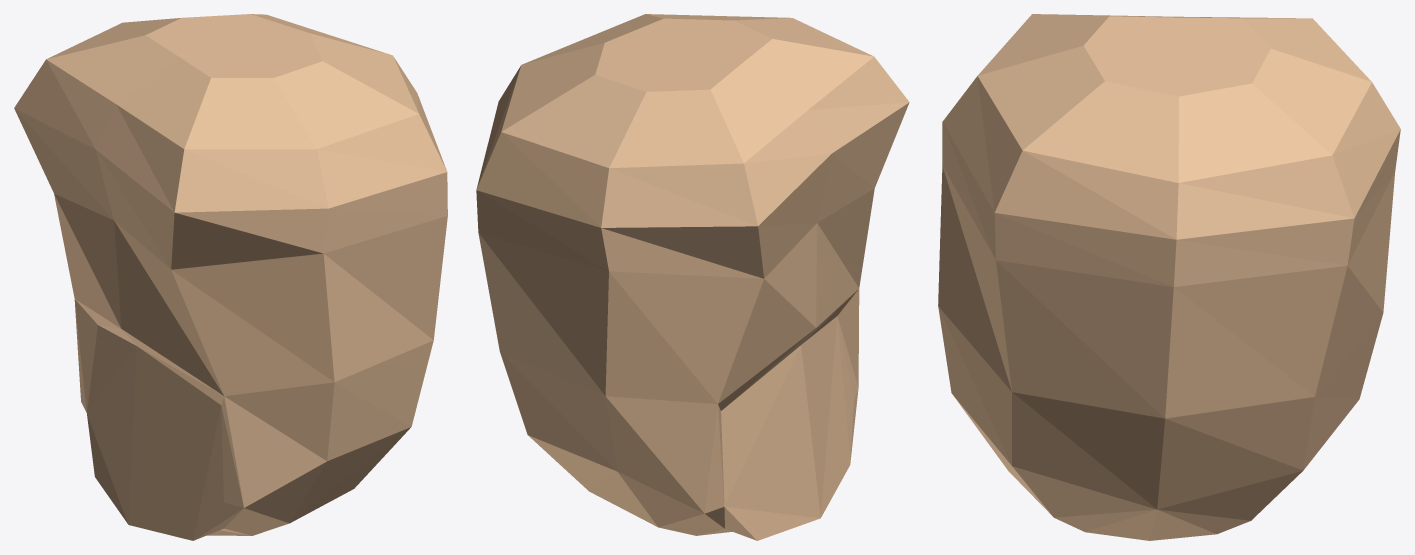
File: RFing42_mesh.dae
The picture shows the model from 3 angles, left to right: view 1: azimuth 30°, elevation 25°; view 2: azimuth 150°, elevation 25°; view 3: azimuth 270°, elevation 25°; orthographic projection. The views are drawn at different scales.
Visible parts, largest first — view 1: RFing42; view 2: RFing42; view 3: RFing42.
Boxes of the visible parts, x1,y1,x2,y2 form: RFing42: (14, 14, 447, 540); RFing42: (476, 14, 909, 540); RFing42: (938, 14, 1400, 540).
Bounding box in the file's own units: 0.0132 × 0.0179 × 0.0152.
